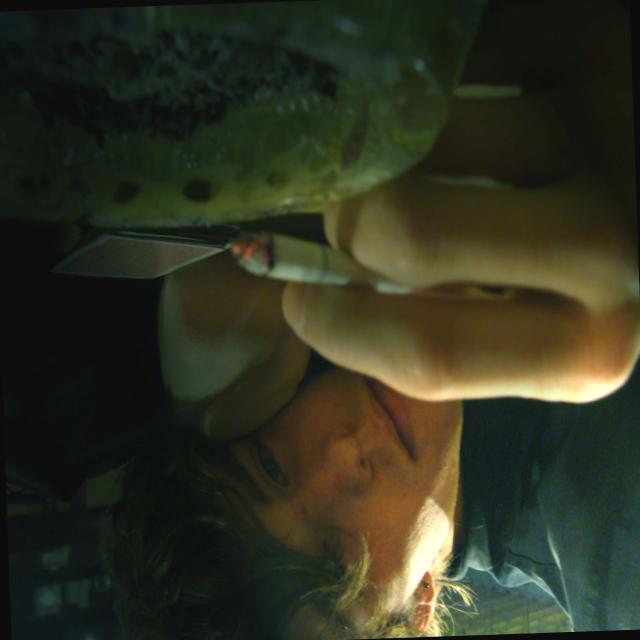cigarette: (202, 192, 497, 356)
